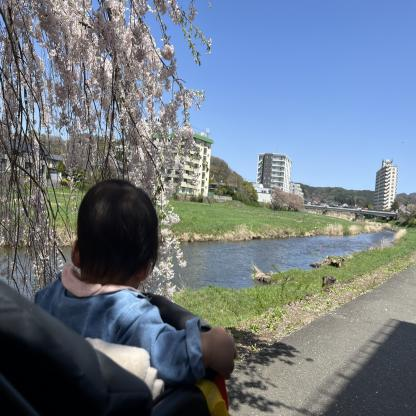ShidareZakura: (0, 0, 213, 305)
